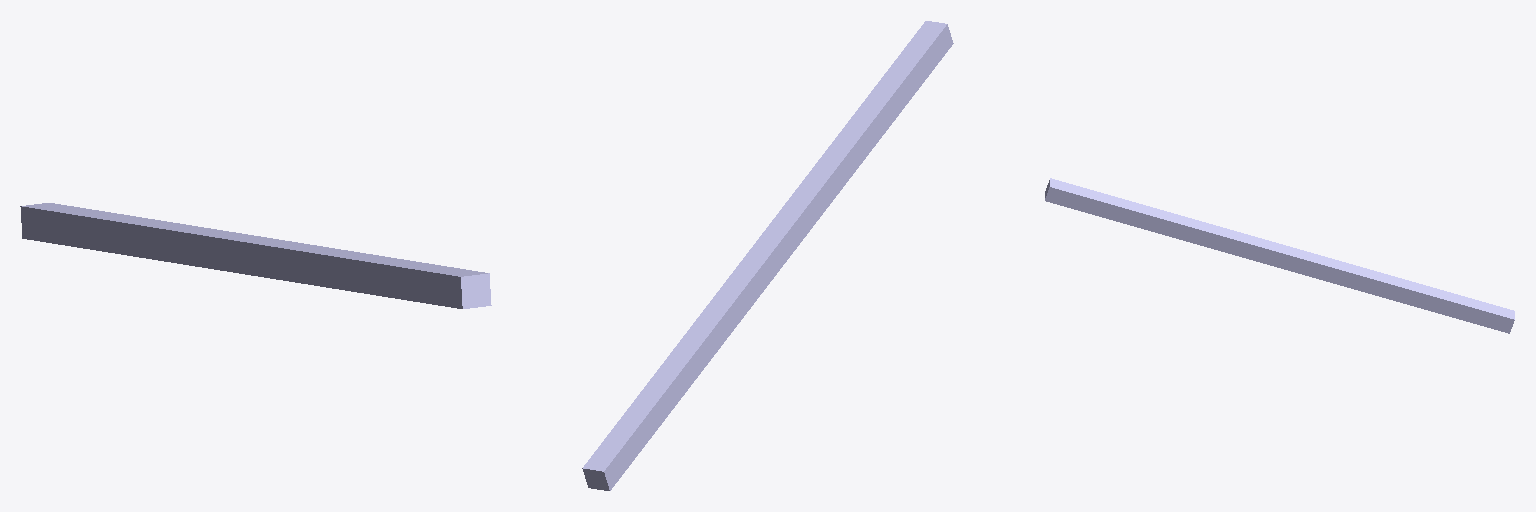
The robot description file, URDF, robot "stick":
<?xml version="1.0"?>
<robot name="stick">
    <link name="robot_base">
        <inertial>
            <origin rpy="-2.826280 4.390635 -1.901973" xyz="0.000000 -0.020858 0.059987" />
            <inertia ixx="0.00063781521665107" ixy="0.0" iyy="0.00063781521665107" izz="1.6106125026411e-06" iyz="0.0" ixz="0.0" />
            <mass value="0.058982398360968" />
        </inertial>
        <collision name="stick">
            <origin rpy="-2.826280 4.390635 -1.901973" xyz="0.000000 -0.020858 0.059987" />
            <geometry>
                <box size="0.012800 0.012800 0.360000" />
            </geometry>
        </collision>
        <visual name="stick">
            <origin rpy="-2.826280 4.390635 -1.901973" xyz="0.000000 -0.020858 0.059987" />
            <geometry>
                <box size="0.012800 0.012800 0.360000" />
            </geometry>
            <material name="robot_base_material">
                <color rgba="0.850000 0.850000 1.000000 1.0" />
            </material>
        </visual>
    </link>
</robot>

--- Render facts (derived) ---
3 views of the same robot in one strip: view 1: azimuth 30°, elevation 25°; view 2: azimuth 150°, elevation 25°; view 3: azimuth 270°, elevation 25° (orthographic).
Model stick with 1 links and 0 joints (none), rooted at robot_base, posed all joints at 0.
Visible links, largest first — view 1: robot_base; view 2: robot_base; view 3: robot_base.
Link boxes in pixels (bbox=[...]): robot_base: bbox=[20, 203, 491, 308]; robot_base: bbox=[582, 21, 953, 490]; robot_base: bbox=[1045, 178, 1514, 333].
Bounding box of the posed robot: 0.014 × 0.3476 × 0.1216 m (x, y, z).
Geometry: primitives only (box / cylinder / sphere), no mesh files.
